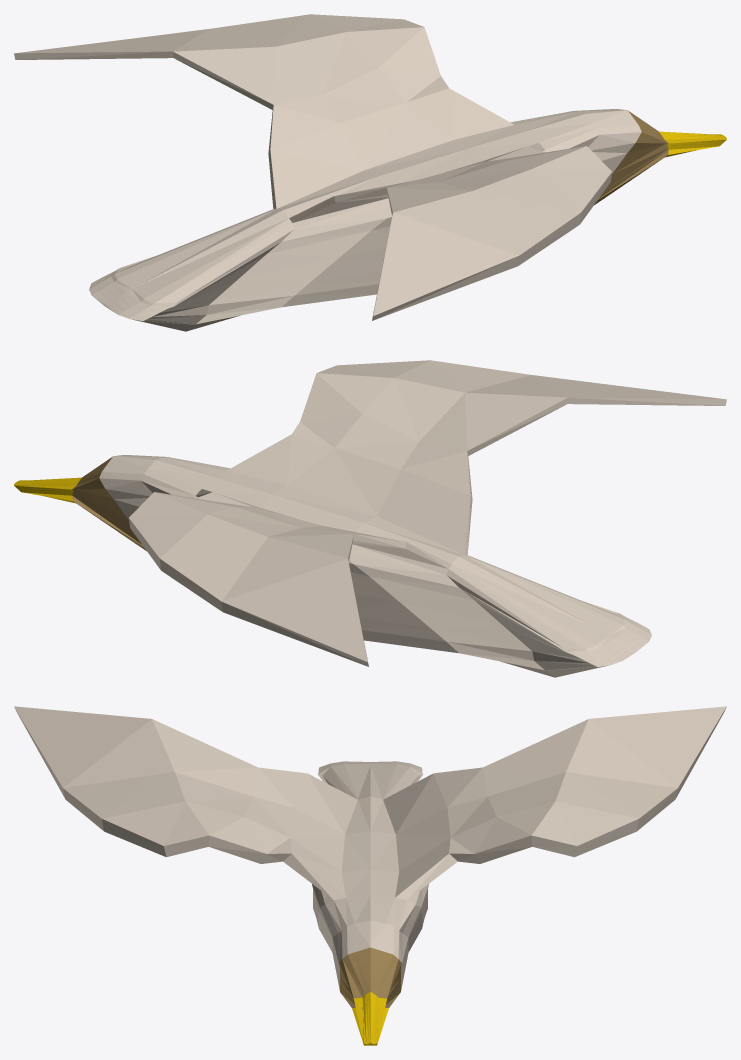
The model's file is Bird_3.fbx.
The picture shows the model from 3 angles, top to bottom: view 1: azimuth 30°, elevation 25°; view 2: azimuth 150°, elevation 25°; view 3: azimuth 270°, elevation 25°; orthographic projection.
Visible parts, largest first — view 1: polySurface219; view 2: polySurface219; view 3: polySurface219.
Boxes of the visible parts, x1,y1,x2,y2 form: polySurface219: (14,14,726,331); polySurface219: (14,360,726,677); polySurface219: (14,706,726,1045).
Size of the model in its own units: 265 by 71.56 by 266.
